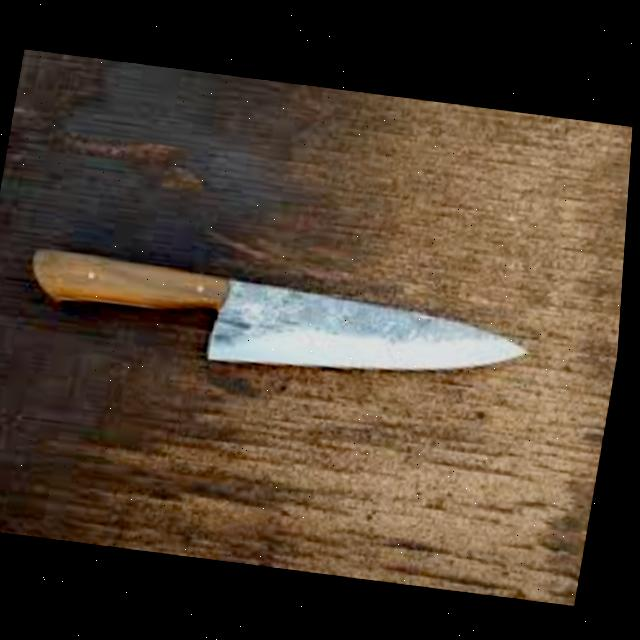Knife: (22, 242, 546, 396)
